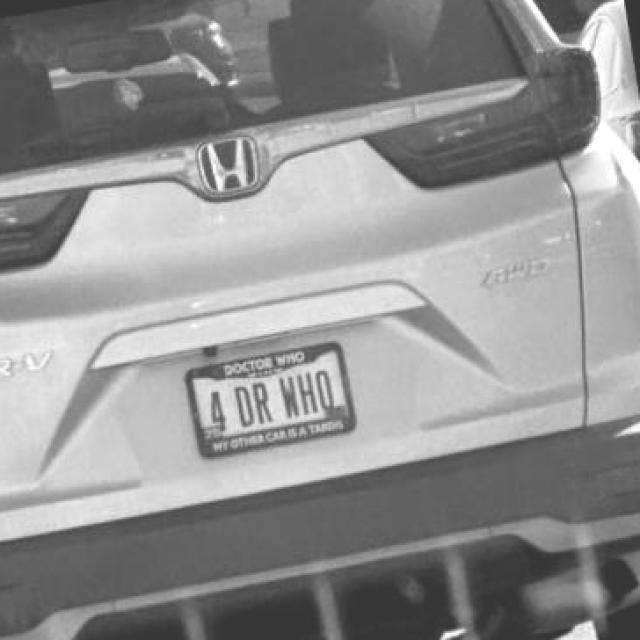licenseplate: (183, 339, 358, 459)
